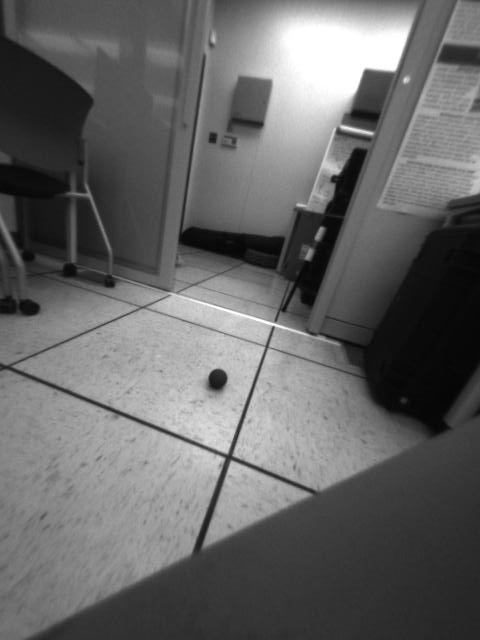dogtoy: (203, 361, 232, 395)
